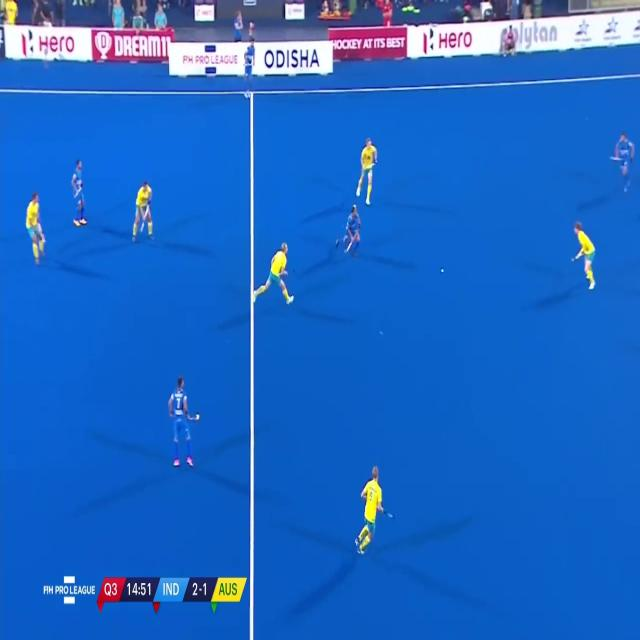ball: (438, 263, 446, 277)
